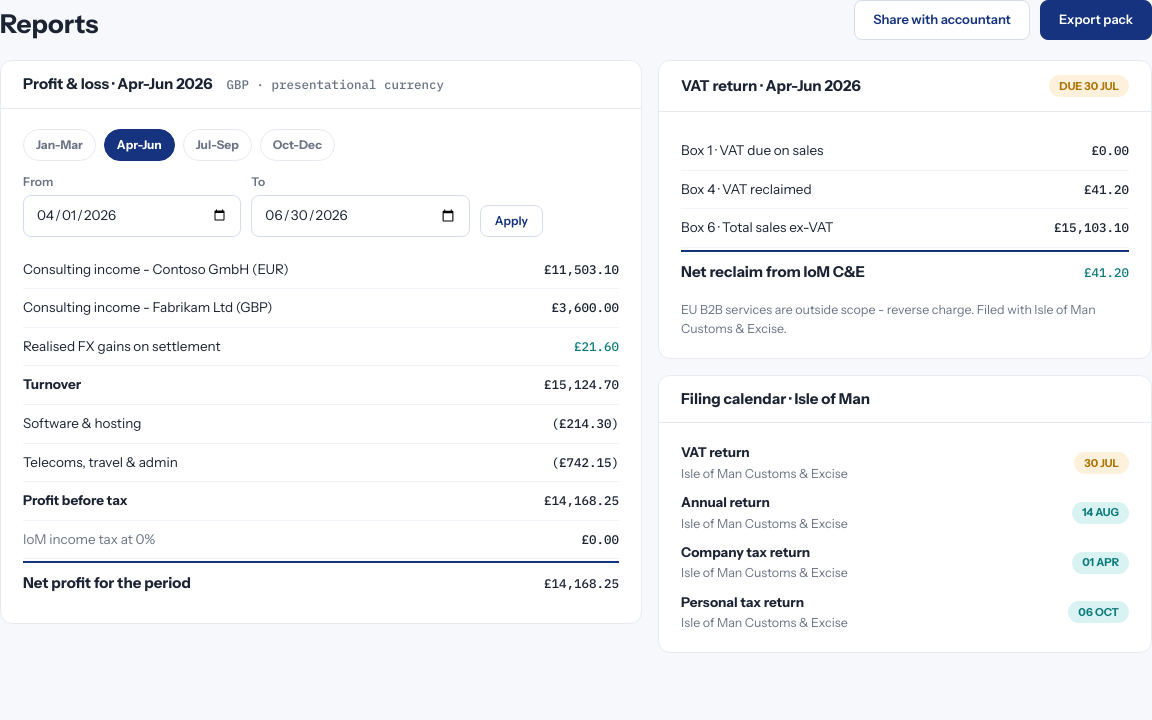
Scenario: ReportsScreen › shares an export pack with an accountant email
The width and height of the screenshot is (1152, 720).
Click the button "Share with accountant" at (942, 20), box [854, 0, 1030, 40]
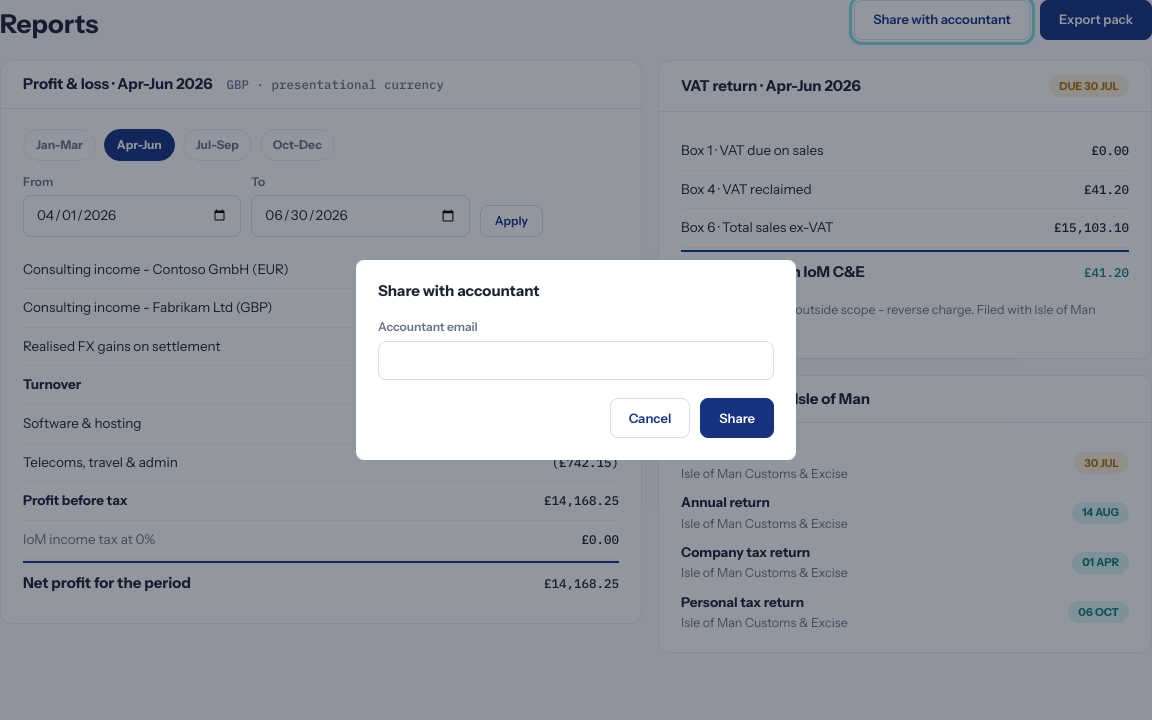
Type "accountant@example.test" into the field labelled "Accountant email" at (576, 361), box [378, 341, 774, 380]
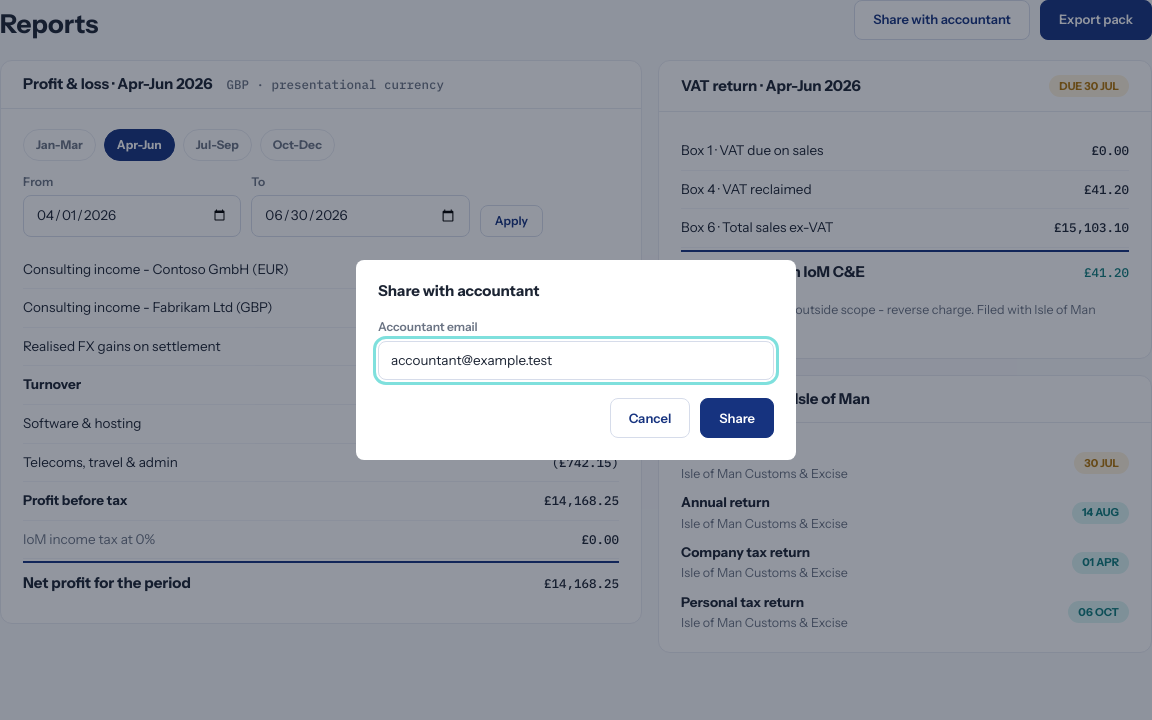
Click the button "Share" at (737, 418), box [700, 398, 774, 438]
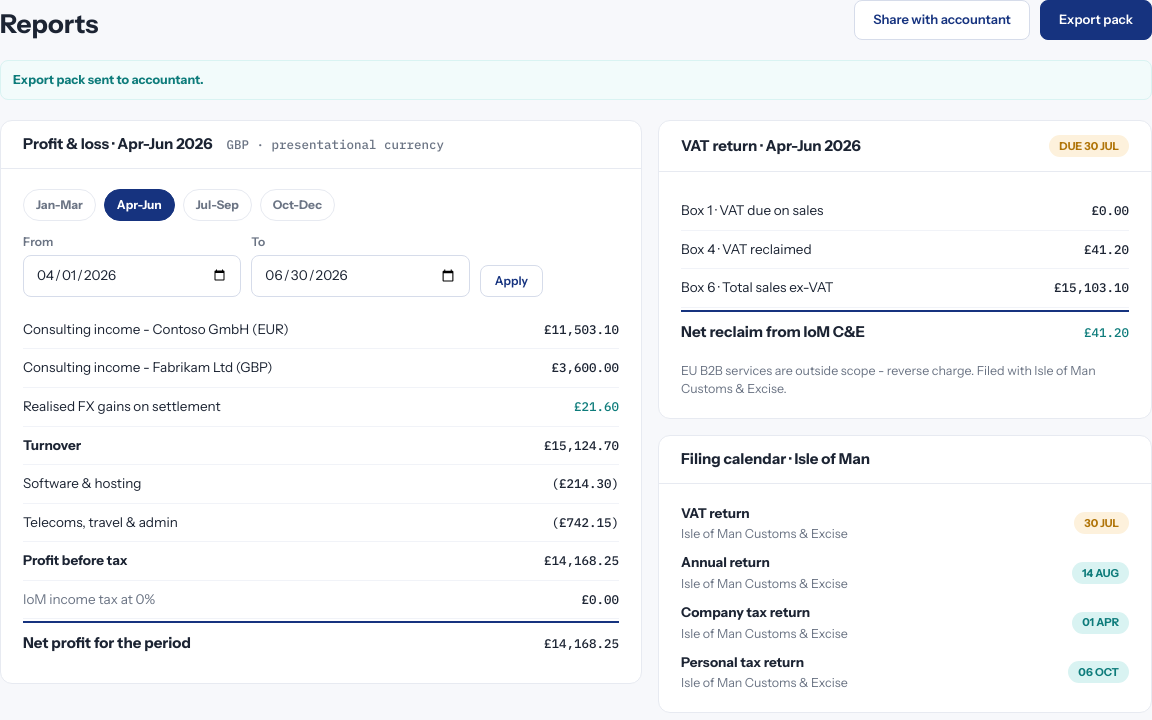
Expected: the message reads "Export pack sent to accountant.", [13, 72, 204, 87]
